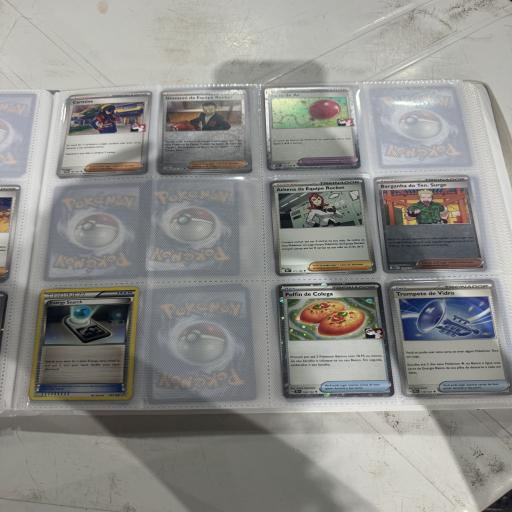card: (388, 269, 512, 410), (278, 278, 395, 403), (28, 286, 140, 400), (373, 175, 488, 273), (269, 177, 377, 277), (57, 89, 153, 179), (264, 84, 361, 173), (157, 89, 251, 173)
